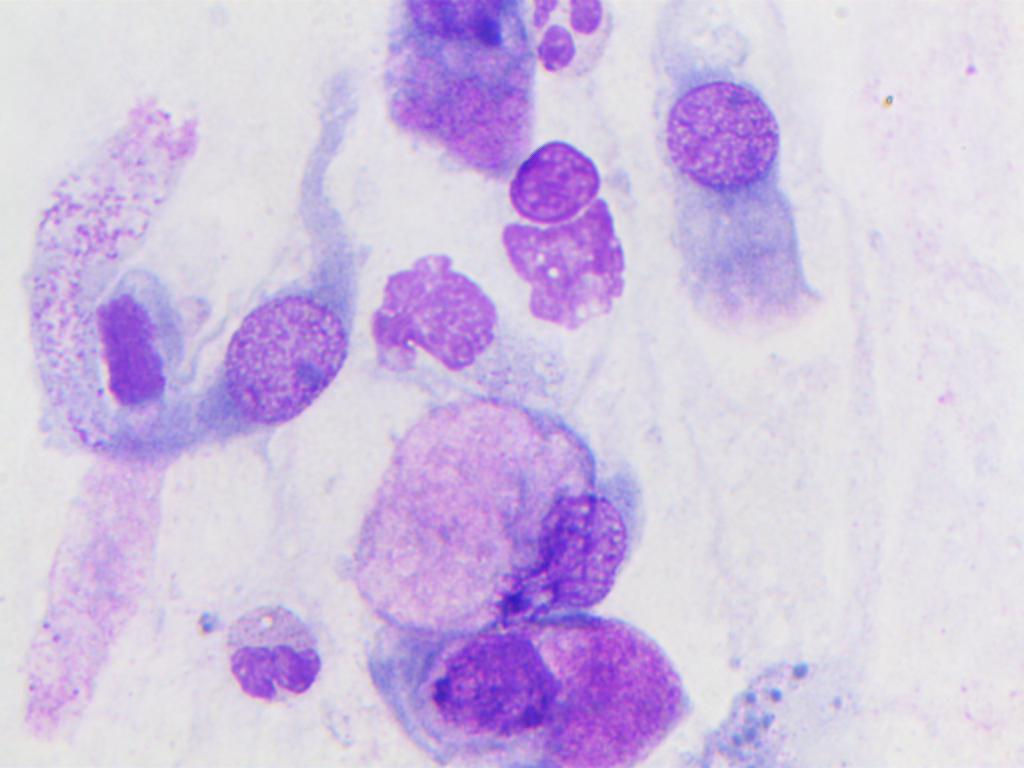artifact: (367, 233, 503, 384), (494, 198, 638, 333)
ciliated: (213, 65, 369, 438), (647, 83, 804, 335)
epithelial: (435, 619, 556, 761)
goblet_cell: (342, 405, 651, 622)
lymphocyte: (499, 130, 605, 220), (396, 0, 523, 56)
neutrophil: (216, 593, 323, 705), (528, 0, 613, 92)
